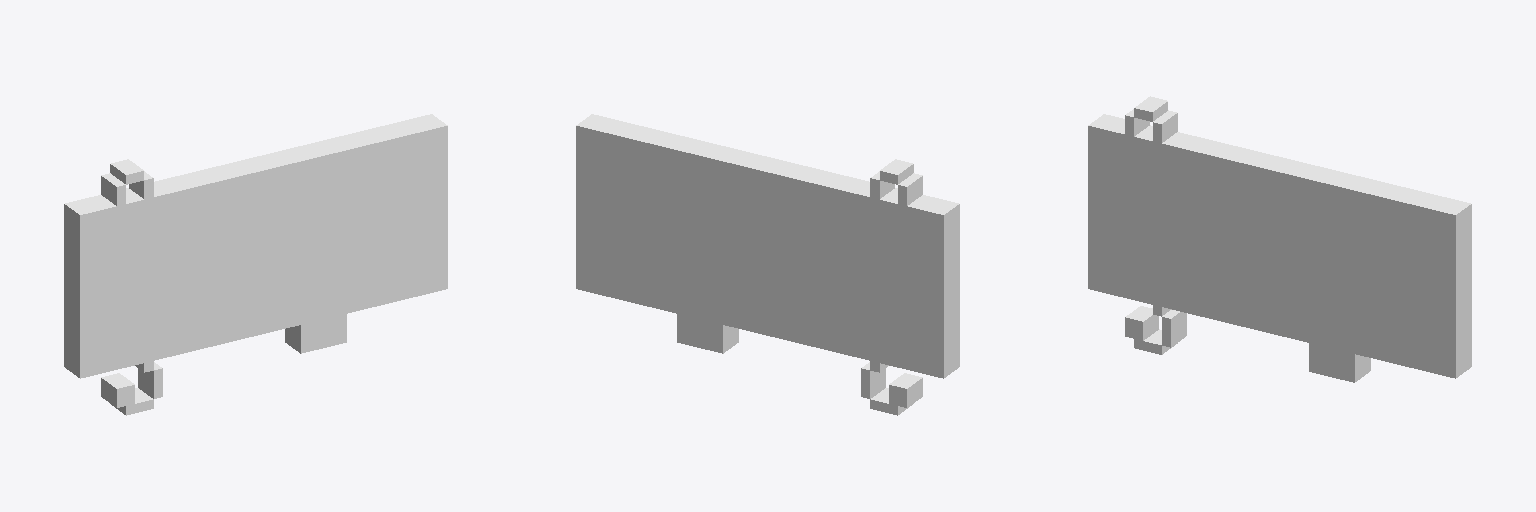
Rendered from DMinorChord.obj.
The picture shows the model from 3 angles: view 1: azimuth 30°, elevation 25°; view 2: azimuth 150°, elevation 25°; view 3: azimuth 330°, elevation 25°; orthographic projection.
Parts seen in each view (by area): view 1: object 1; view 2: object 1; view 3: object 1.
Part boxes in pixels (bbox=[...]): object 1: bbox=[64, 114, 447, 415]; object 1: bbox=[576, 114, 959, 415]; object 1: bbox=[1088, 96, 1471, 382].
Bounding box in the file's own units: 4 × 2.5 × 0.3.